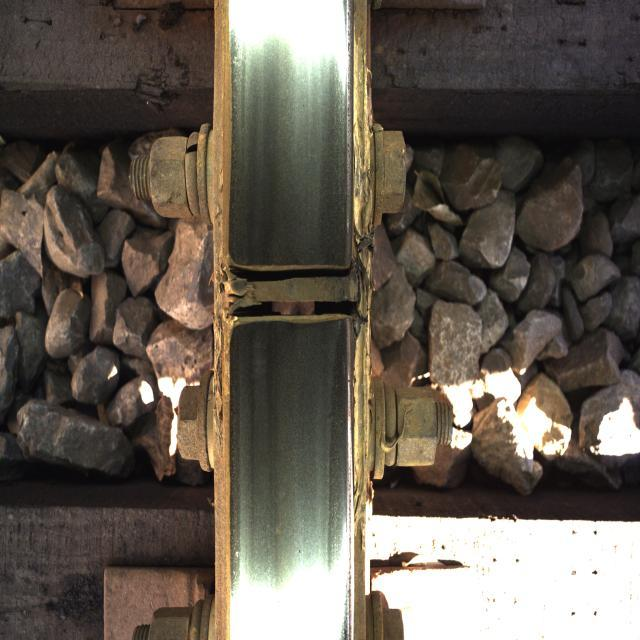spalling: (208, 220, 382, 351)
